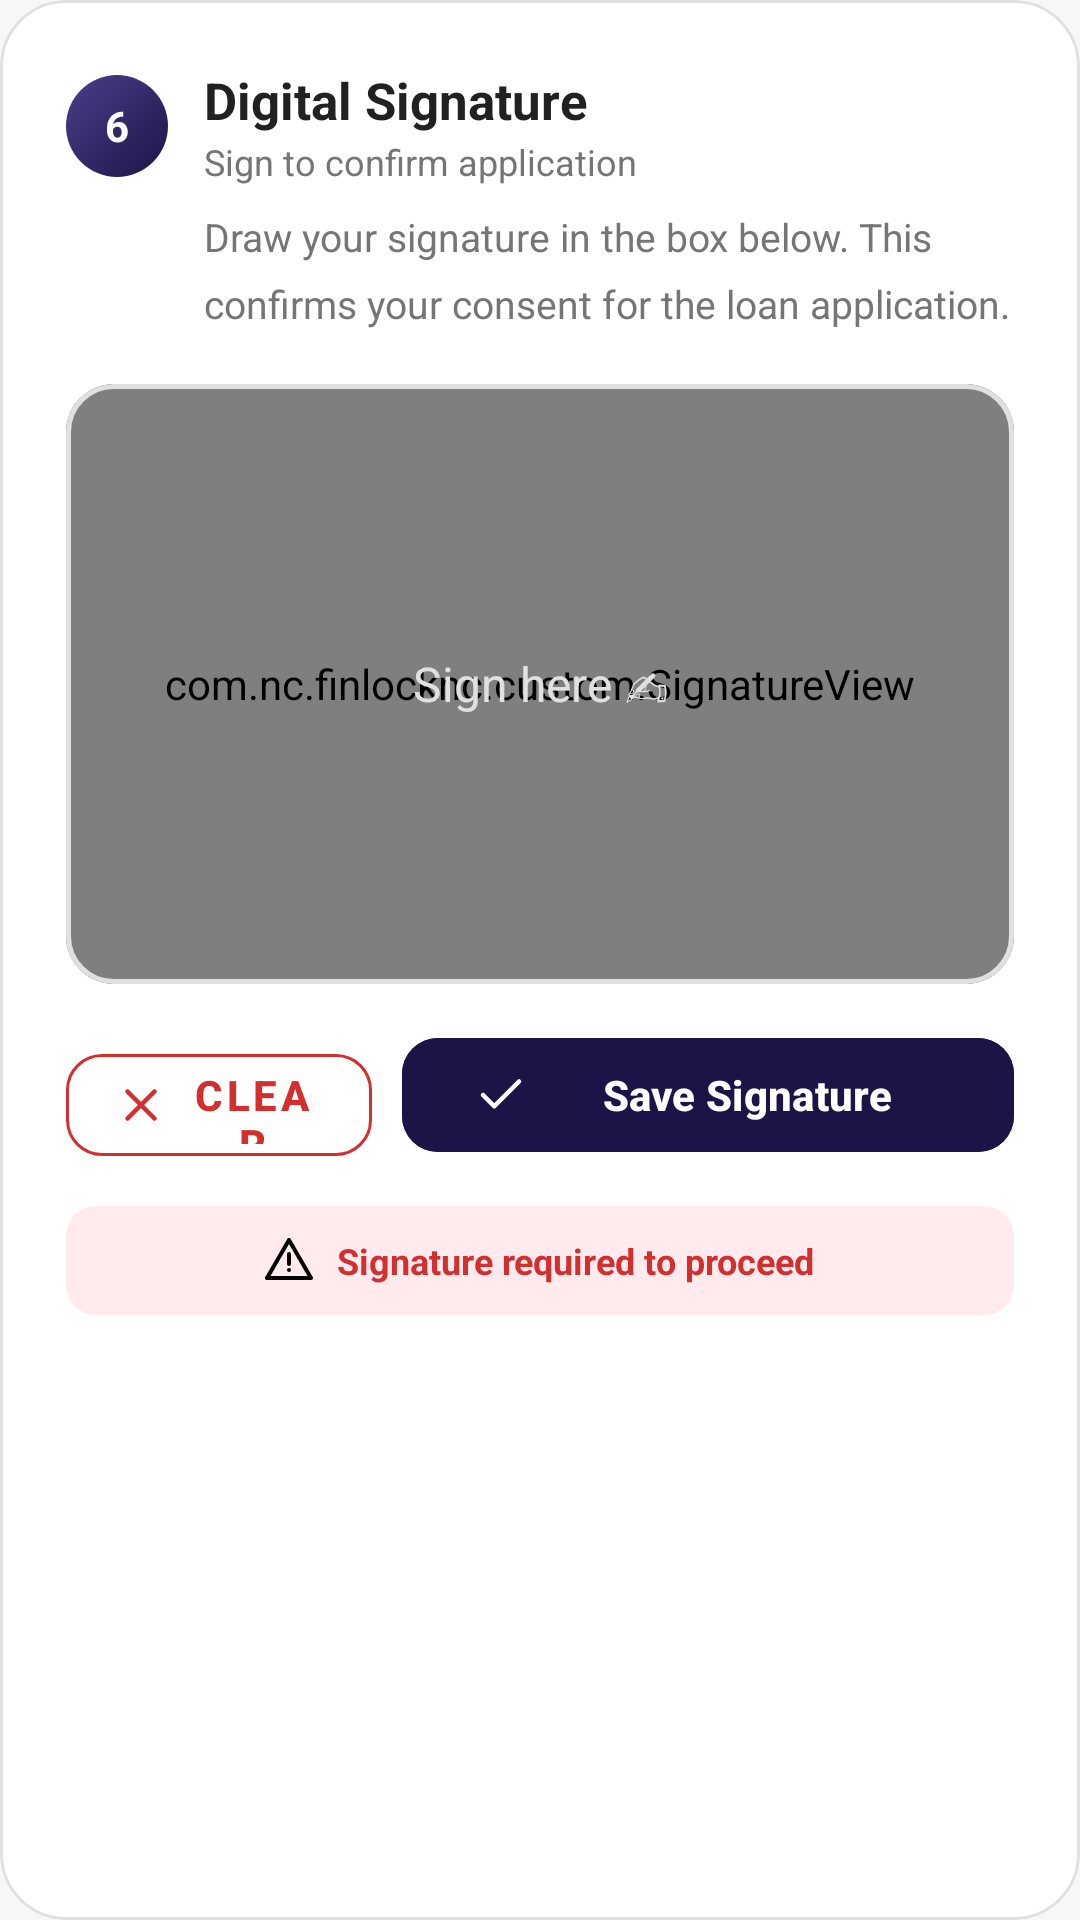

Point at icon controls on the screen. Image size 1080px×1920px, points as (x=x, y=y).
Warning: (x=289, y=1259)
